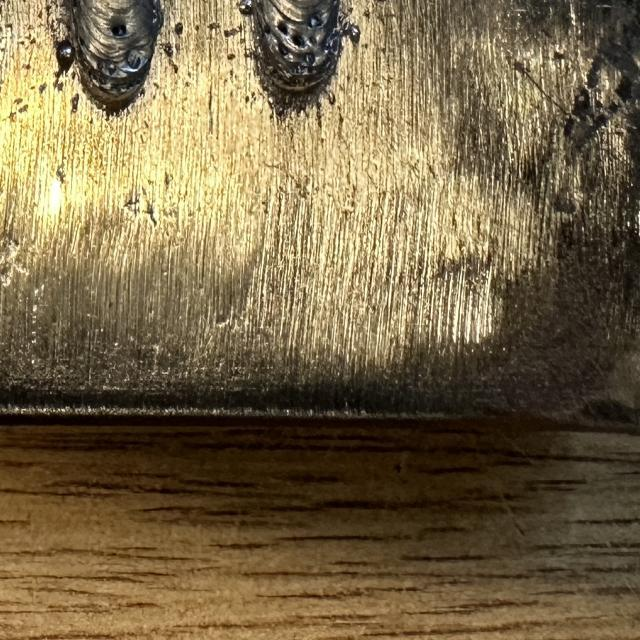Porosity: (308, 15, 329, 28), (127, 50, 141, 69), (110, 22, 127, 37), (290, 34, 306, 49), (277, 20, 289, 37), (303, 52, 318, 65), (278, 43, 290, 56), (264, 25, 272, 37), (92, 74, 99, 87), (108, 65, 117, 75), (99, 76, 108, 85), (309, 37, 316, 47), (97, 61, 104, 70), (126, 83, 133, 91), (89, 71, 92, 82), (136, 80, 140, 85)
Spatters: (57, 41, 76, 71), (222, 24, 243, 38), (161, 40, 175, 59), (238, 0, 253, 15), (351, 24, 361, 42), (71, 93, 80, 113), (38, 81, 49, 95), (208, 21, 220, 33), (175, 22, 183, 36), (18, 103, 29, 113), (328, 92, 335, 105), (8, 110, 17, 118), (227, 53, 236, 60), (13, 98, 23, 104), (364, 10, 371, 17), (29, 85, 36, 90), (245, 95, 249, 103), (364, 43, 369, 49), (251, 91, 255, 97), (254, 96, 256, 102)
